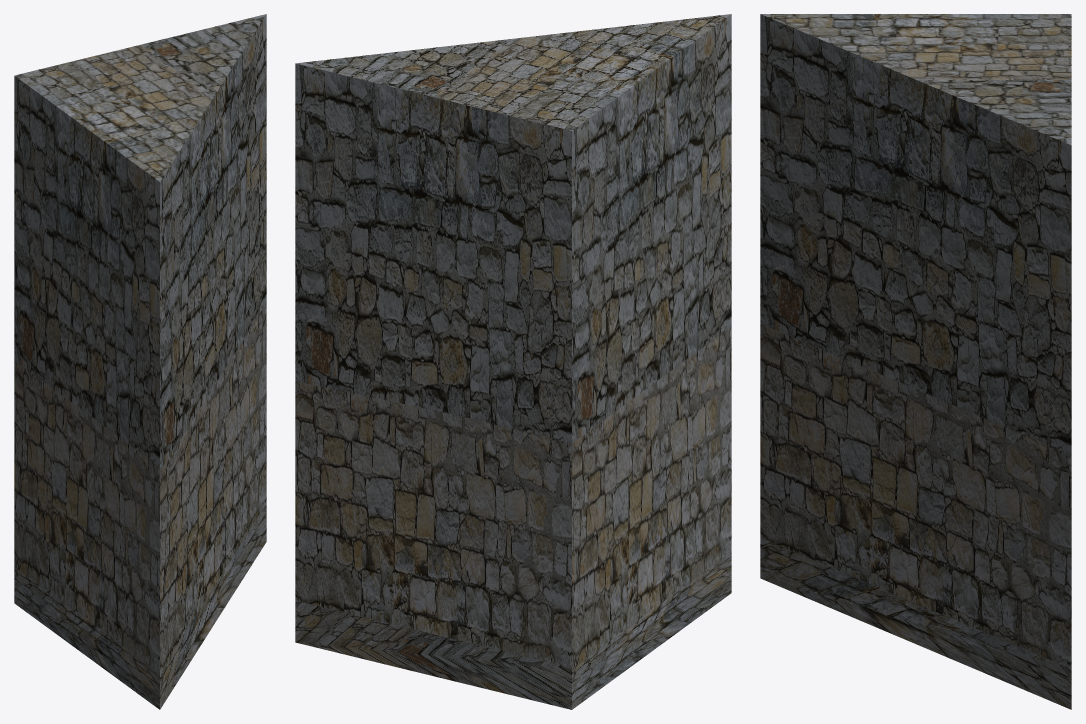
The model's file is foundationcorner.glb.
3 views of the same model, side by side, from view 1: azimuth 30°, elevation 25°; view 2: azimuth 150°, elevation 25°; view 3: azimuth 270°, elevation 25° (orthographic). The views are drawn at different scales.
Parts seen in each view (by area): view 1: Cube; view 2: Cube; view 3: Cube.
Boxes of the visible parts, x1,y1,x2,y2 form: Cube: (14,14,266,709); Cube: (295,14,731,709); Cube: (760,14,1071,709).
Size of the model in its own units: 1 by 2 by 1.
1 material, 1 textured.
